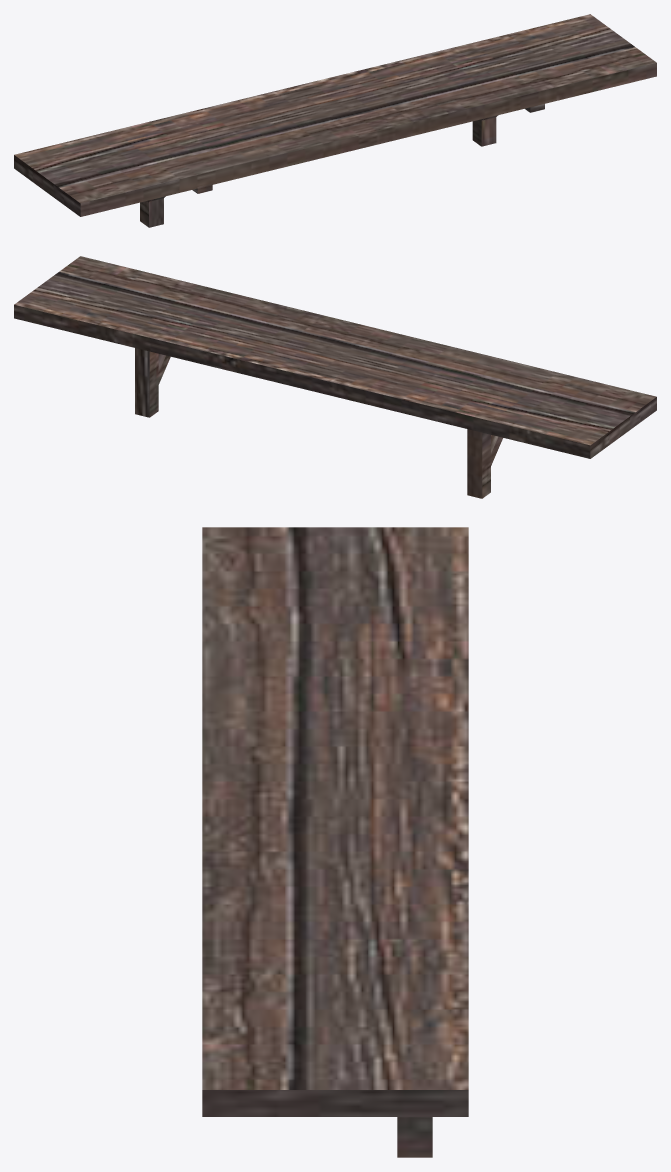
The model's file is Mural_Shelf.fbx.
3 renders of one model, top to bottom at view 1: azimuth 30°, elevation 25°; view 2: azimuth 150°, elevation 25°; view 3: azimuth 270°, elevation 25°, orthographic. The views are drawn at different scales.
Visible parts, largest first — view 1: pCube4; view 2: pCube4; view 3: pCube4.
Part boxes in pixels (left/top/right/bottom): pCube4: left=14, top=14, right=656, bottom=227; pCube4: left=14, top=256, right=656, bottom=498; pCube4: left=202, top=527, right=468, bottom=1157.
Size of the model in its own units: 173 by 25.47 by 34.65.
